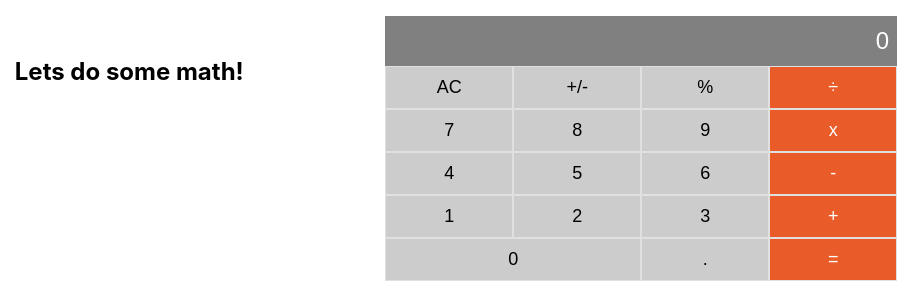
Calculator › displays the clicked button value on the calculator display
Click the button "7" at coordinates (449, 130), box [385, 108, 513, 152]
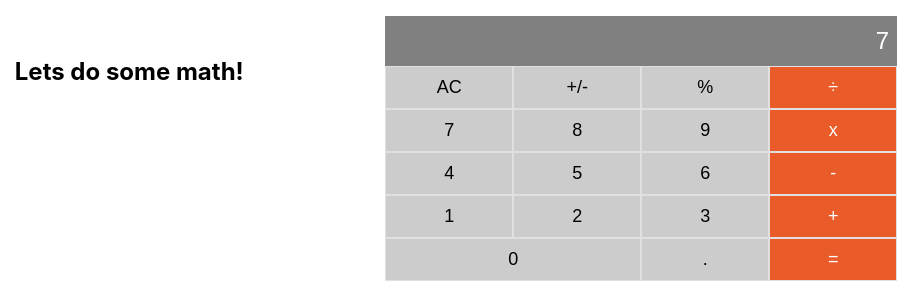
Now the field showing "7" is shown, box [395, 26, 891, 56]
